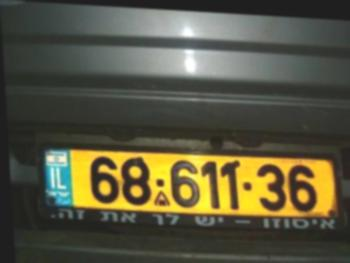License_Plate: (74, 150, 333, 217)
